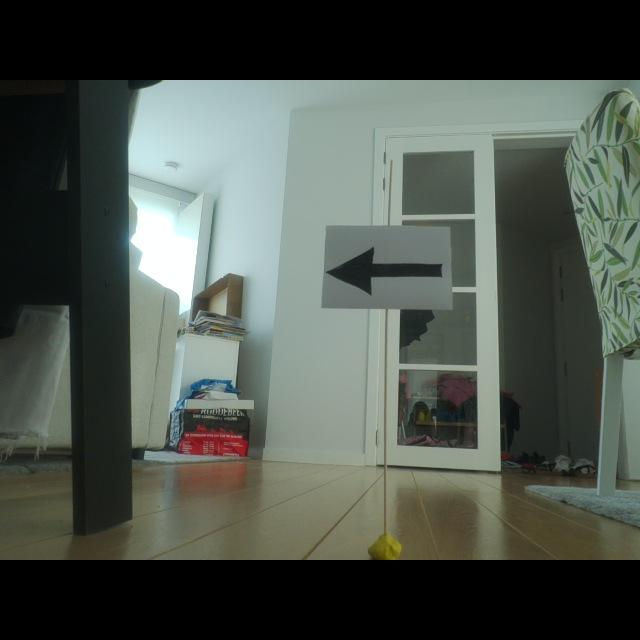balra_nyil: (327, 247, 442, 294)
